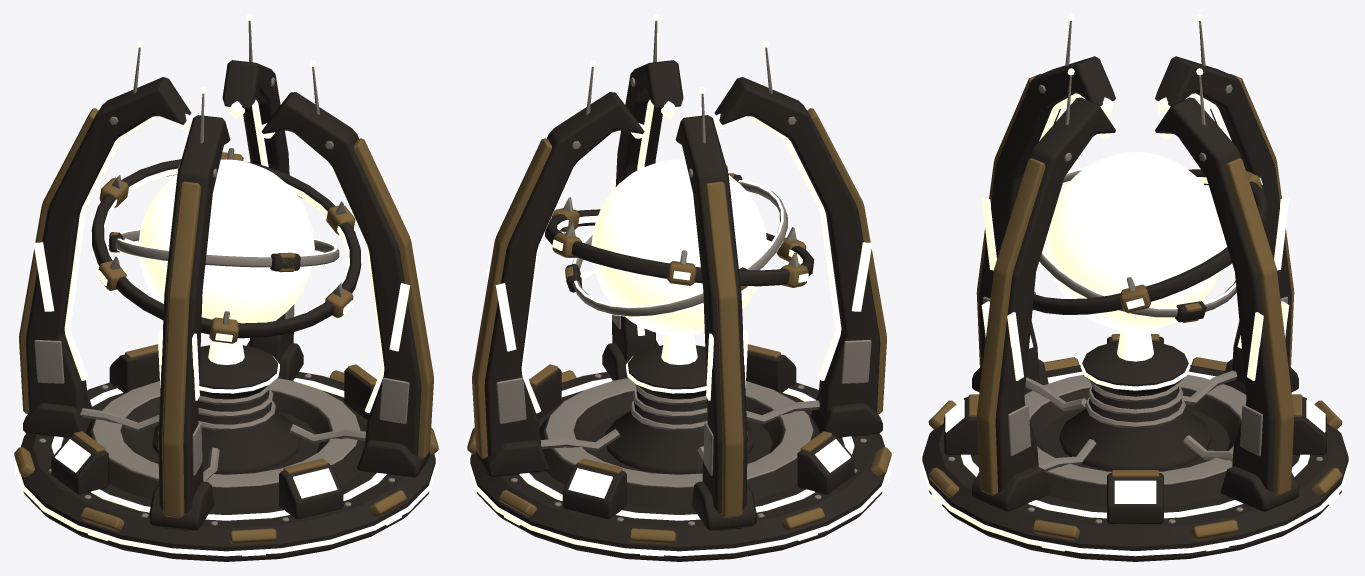
The model's file is core.glb.
3 views of the same model, side by side, from view 1: azimuth 30°, elevation 25°; view 2: azimuth 150°, elevation 25°; view 3: azimuth 270°, elevation 25° (orthographic).
Visible parts, largest first — view 1: base, spin_1, spin_2; view 2: base, spin_1, spin_2; view 3: base, spin_1, spin_2.
Boxes of the visible parts, x1,y1,x2,y2 form: base: (14,14,438,561); spin_1: (91,148,361,343); spin_2: (108,229,339,272); base: (467,14,891,561); spin_1: (545,197,814,287); spin_2: (565,173,787,316); base: (920,14,1350,561); spin_1: (1032,169,1269,314); spin_2: (1039,167,1236,322).
Size of the model in its own units: 4.54 by 5.04 by 4.54.
